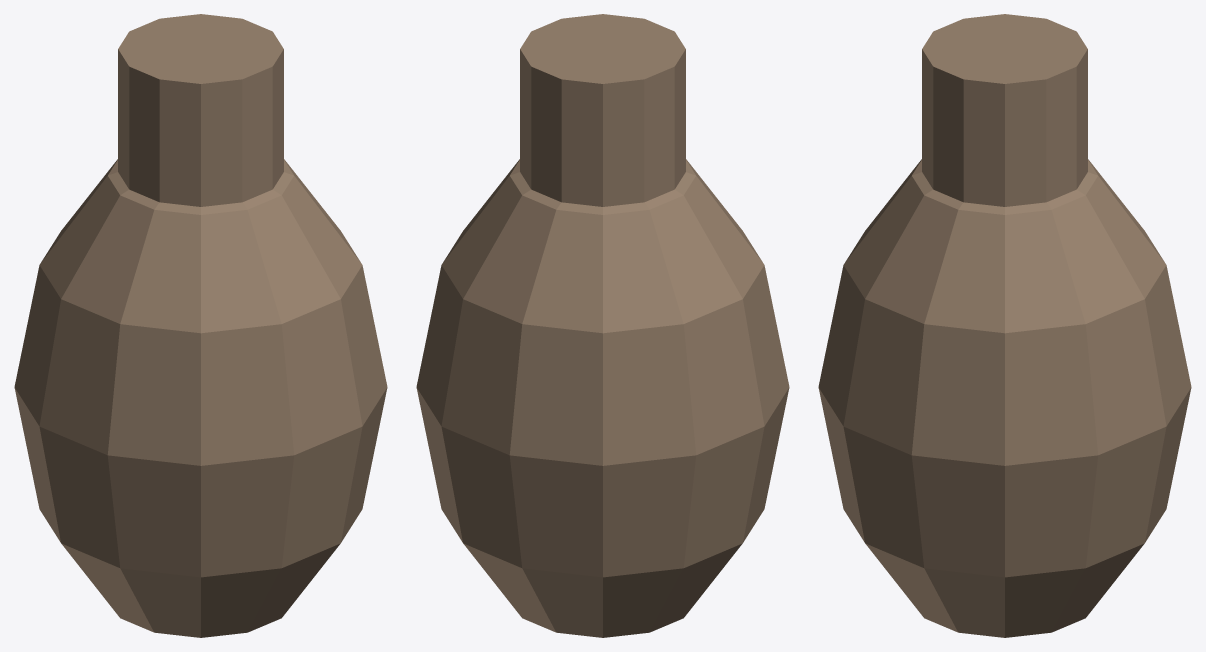
Rendered from PR-BOTTLE.glb.
The picture shows the model from 3 angles, left to right: view 1: azimuth 30°, elevation 25°; view 2: azimuth 150°, elevation 25°; view 3: azimuth 270°, elevation 25°; orthographic projection.
Visible parts, largest first — view 1: vessel, neck; view 2: vessel, neck; view 3: vessel, neck.
Part boxes in pixels (x1,y1,x2,y2): vessel: [14, 159, 387, 637]; neck: [118, 14, 283, 206]; vessel: [416, 159, 789, 637]; neck: [520, 14, 685, 206]; vessel: [818, 159, 1191, 637]; neck: [922, 14, 1087, 206].
Size of the model in its own units: 0.09 by 0.155 by 0.09.
